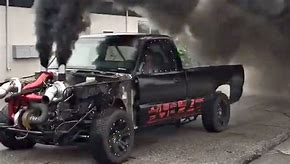smoke: (33, 1, 86, 63)
